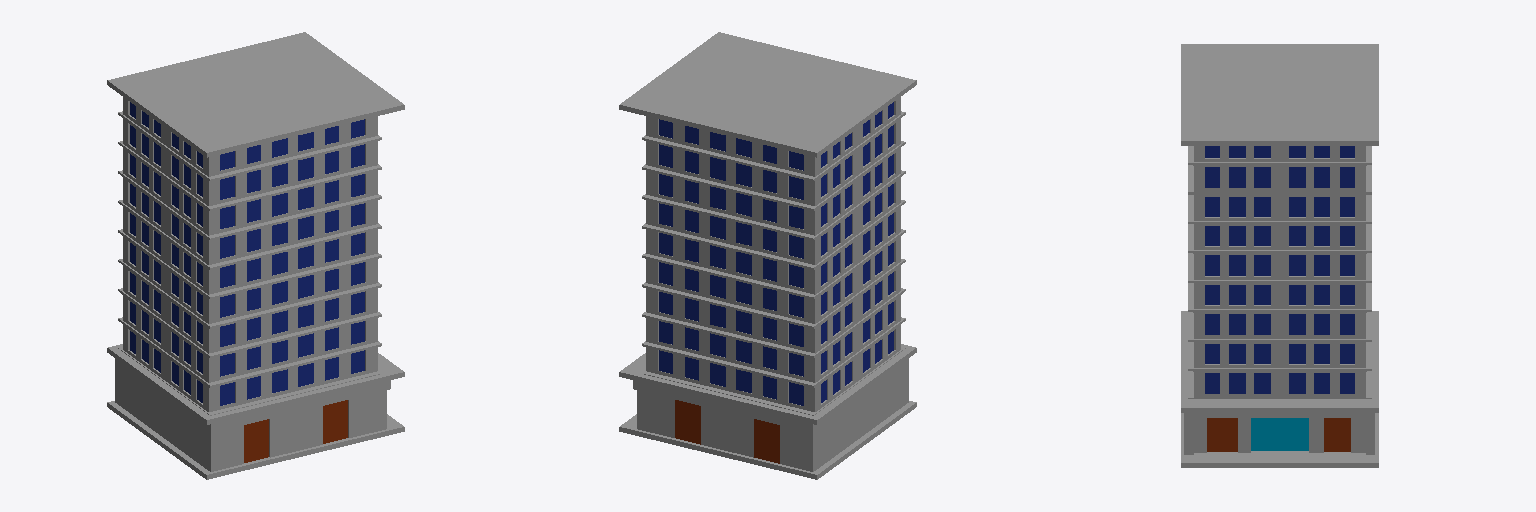
The picture shows the model from 3 angles: view 1: azimuth 30°, elevation 25°; view 2: azimuth 150°, elevation 25°; view 3: azimuth 270°, elevation 25°; orthographic projection.
Parts seen in each view (by area): view 1: Cube_Cube_001, Cube_001_Cube_010, Cube_003_Cube_012, Cube_002_Cube_011, Cube_010_Cube_019, Cube_009_Cube_018; view 2: Cube_Cube_001, Cube_001_Cube_010, Cube_003_Cube_012, Cube_002_Cube_011, Cube_008_Cube_017, Cube_007_Cube_016; view 3: Cube_Cube_001, Cube_001_Cube_010, Cube_003_Cube_012, Cube_002_Cube_011, Cube_004_Cube_013, Cube_005_Cube_014, Cube_006_Cube_015.
Boxes of the visible parts, x1=… form: Cube_Cube_001: x1=118, y1=97, x2=381, y2=415; Cube_001_Cube_010: x1=107, y1=32, x2=404, y2=157; Cube_003_Cube_012: x1=107, y1=359, x2=404, y2=479; Cube_002_Cube_011: x1=107, y1=344, x2=404, y2=424; Cube_010_Cube_019: x1=323, y1=400, x2=347, y2=443; Cube_009_Cube_018: x1=244, y1=419, x2=268, y2=462; Cube_Cube_001: x1=642, y1=97, x2=905, y2=415; Cube_001_Cube_010: x1=619, y1=32, x2=916, y2=157; Cube_003_Cube_012: x1=619, y1=359, x2=916, y2=479; Cube_002_Cube_011: x1=619, y1=344, x2=916, y2=424; Cube_008_Cube_017: x1=754, y1=419, x2=779, y2=463; Cube_007_Cube_016: x1=675, y1=400, x2=700, y2=444; Cube_Cube_001: x1=1188, y1=146, x2=1371, y2=398; Cube_001_Cube_010: x1=1181, y1=44, x2=1378, y2=145; Cube_003_Cube_012: x1=1181, y1=413, x2=1378, y2=467; Cube_002_Cube_011: x1=1181, y1=311, x2=1378, y2=412; Cube_004_Cube_013: x1=1251, y1=418, x2=1308, y2=450; Cube_005_Cube_014: x1=1207, y1=418, x2=1237, y2=451; Cube_006_Cube_015: x1=1324, y1=418, x2=1350, y2=451.
Bounding box in the file's own units: 2.3 × 3.63 × 2.
Materials: 9 (3 with a texture image).